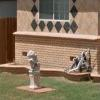Statue: (22, 43, 52, 94)
